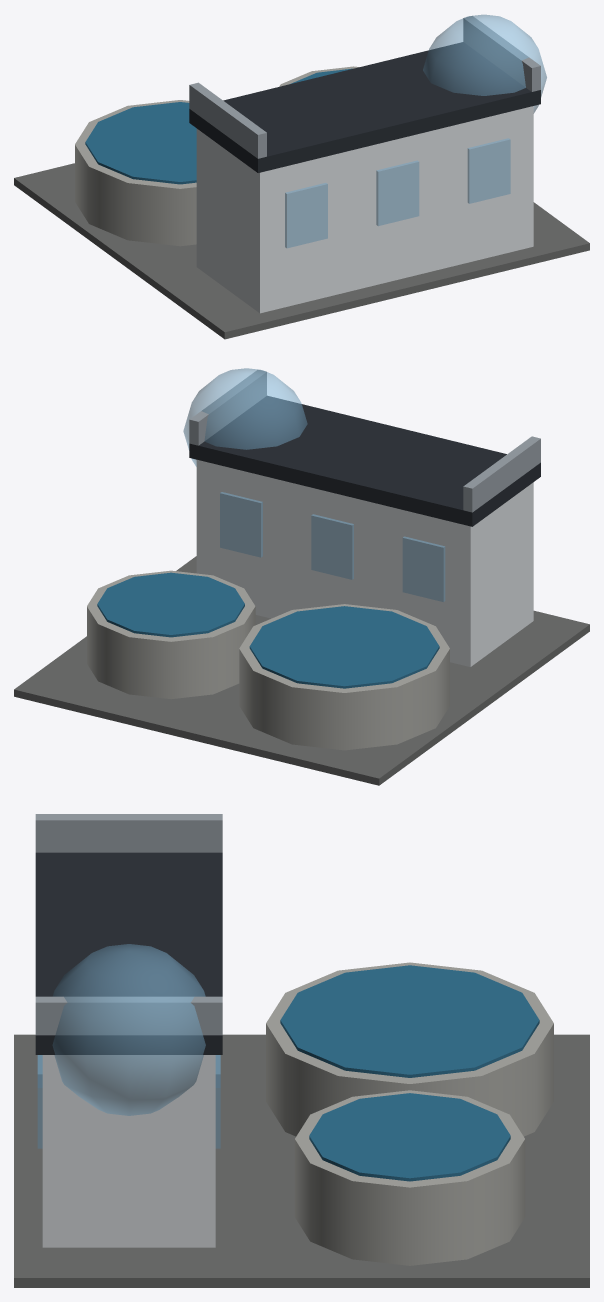
Rendered from bld_special_water_works_a08.glb.
The picture shows the model from 3 angles, top to bottom: view 1: azimuth 30°, elevation 25°; view 2: azimuth 150°, elevation 25°; view 3: azimuth 270°, elevation 25°; orthographic projection. The views are drawn at different scales.
Parts seen in each view (by area): view 1: body; view 2: body; view 3: body.
Part boxes in pixels (left/top/right/bottom): body: left=14, top=14, right=589, bottom=339; body: left=14, top=368, right=589, bottom=785; body: left=14, top=814, right=589, bottom=1287.
Size of what is drawn, in the model's own units: 8 by 4.5 by 8.
